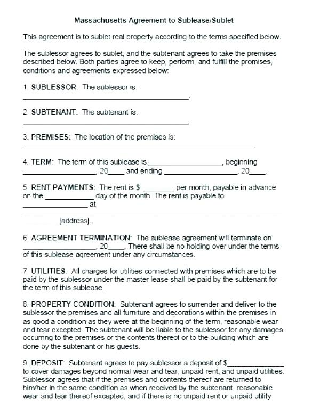textline: (17, 141, 258, 153), (20, 90, 191, 104), (22, 211, 287, 219), (20, 117, 195, 128), (227, 356, 286, 371), (161, 167, 240, 177), (20, 168, 98, 178), (22, 242, 97, 252), (149, 158, 223, 168), (20, 201, 89, 211), (43, 191, 95, 201), (140, 183, 175, 193), (105, 242, 129, 251), (249, 167, 267, 178), (107, 167, 125, 177)
